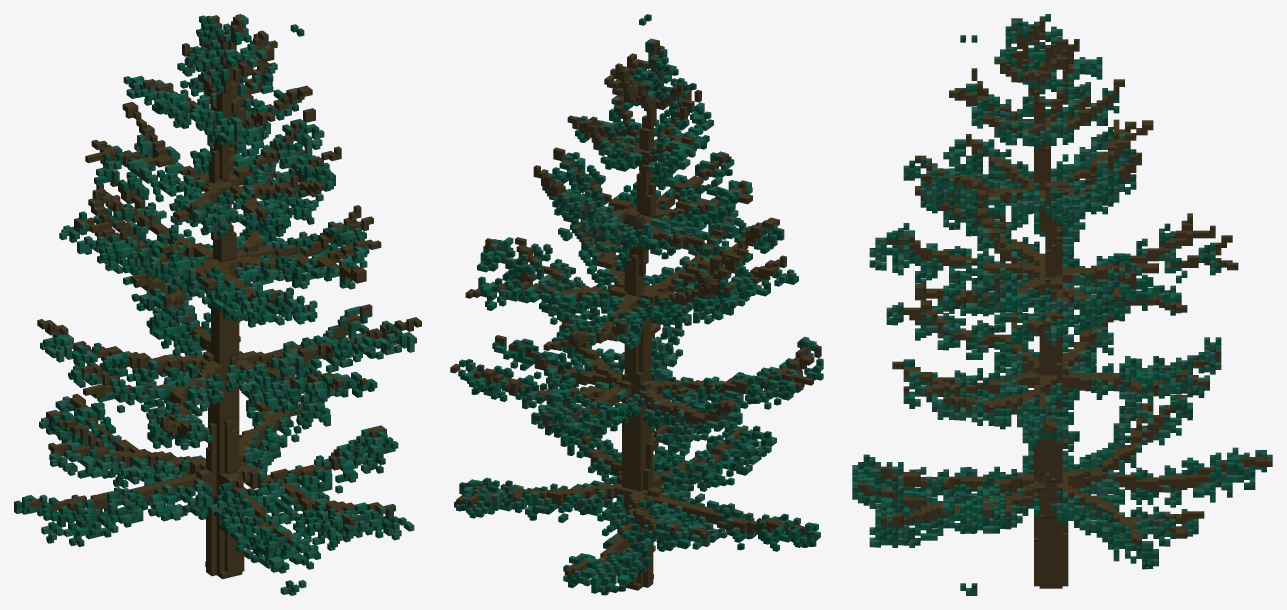
Rendered from pino.obj.
The picture shows the model from 3 angles, left to right: view 1: azimuth 30°, elevation 25°; view 2: azimuth 150°, elevation 25°; view 3: azimuth 270°, elevation 25°; orthographic projection. The views are drawn at different scales.
Visible parts, largest first — view 1: Content; view 2: Content; view 3: Content.
Part boxes in pixels (left/top/right/bottom): Content: left=14, top=14, right=421, bottom=595; Content: left=450, top=14, right=823, bottom=595; Content: left=852, top=14, right=1272, bottom=595.
Size of the model in its own units: 7 by 10.9 by 7.4.
